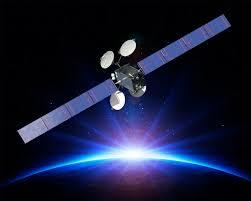antenna: (109, 89, 127, 113), (117, 38, 138, 58), (99, 49, 116, 70), (130, 82, 148, 99)
body: (113, 61, 146, 94)
solar: (16, 76, 120, 147), (136, 12, 236, 77)
